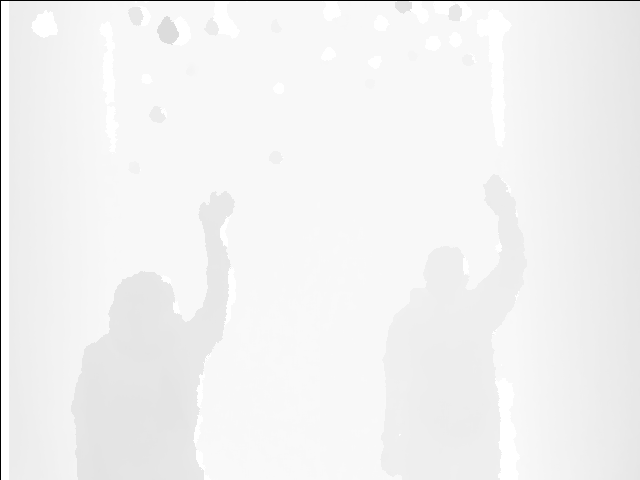hand: (482, 175, 517, 223), (200, 192, 234, 231)
